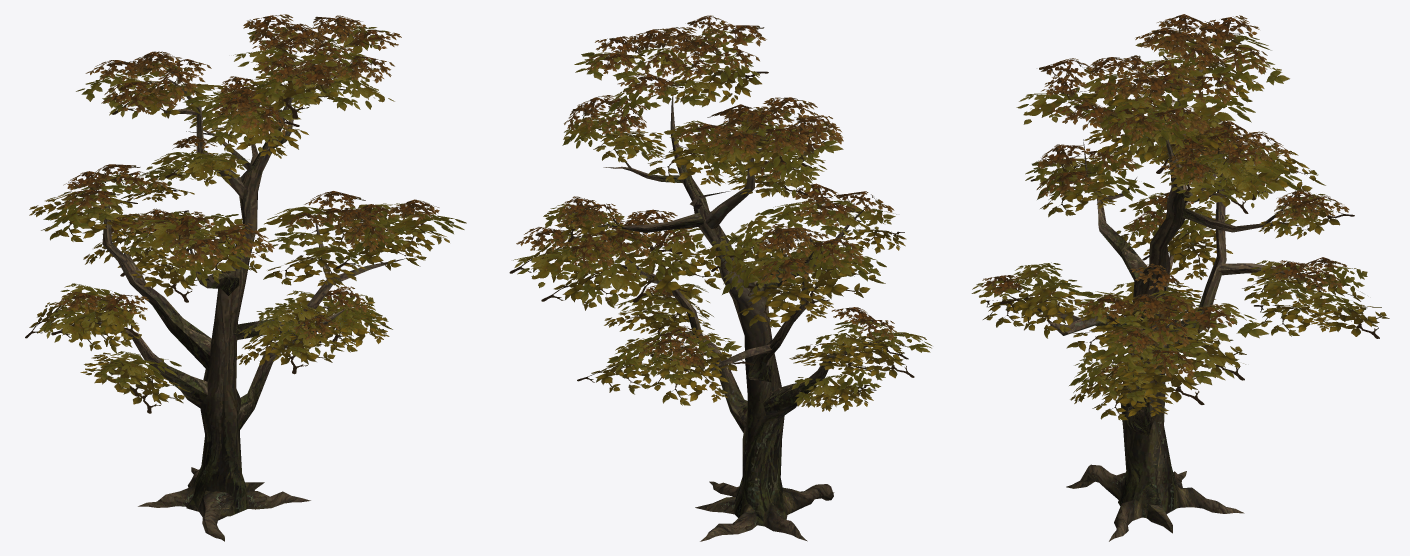
File: 4005_Item_shu_3.FBX
3 views of the same model, side by side, from view 1: azimuth 30°, elevation 25°; view 2: azimuth 150°, elevation 25°; view 3: azimuth 270°, elevation 25° (orthographic). The views are drawn at different scales.
Visible parts, largest first — view 1: 4005_Item_shu_3; view 2: 4005_Item_shu_3; view 3: 4005_Item_shu_3.
Part boxes in pixels (x1,y1,x2,y2): 4005_Item_shu_3: (25, 14, 466, 541); 4005_Item_shu_3: (509, 15, 931, 541); 4005_Item_shu_3: (971, 14, 1389, 541).
Size of the model in its own units: 521 by 542 by 435.
